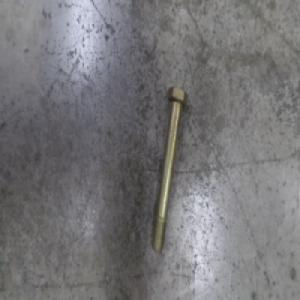Bolt: (150, 84, 188, 254)
